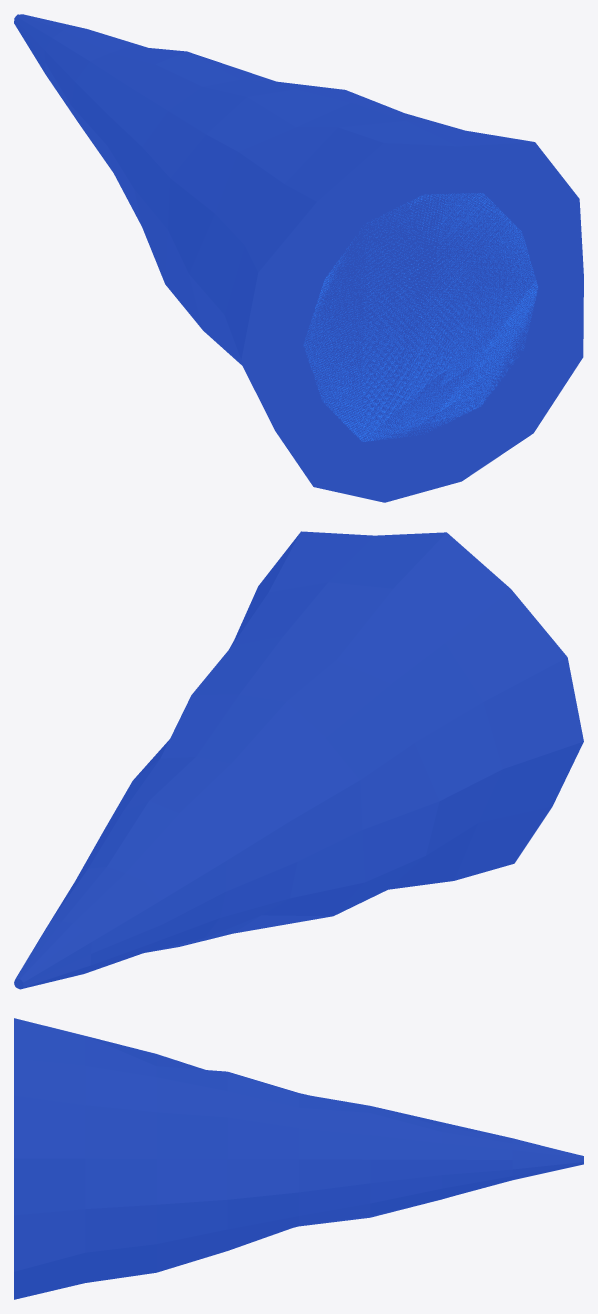
Rendered from afterburner_glow.glb.
3 views of the same model, one above another, from view 1: azimuth 30°, elevation 25°; view 2: azimuth 150°, elevation 25°; view 3: azimuth 270°, elevation 25° (orthographic). The views are drawn at different scales.
Visible parts, largest first — view 1: afterburner_glow; view 2: afterburner_glow; view 3: afterburner_glow.
Part boxes in pixels (left/top/right/bottom): afterburner_glow: left=14, top=14, right=583, bottom=502; afterburner_glow: left=14, top=531, right=583, bottom=989; afterburner_glow: left=14, top=1018, right=583, bottom=1299.
Size of the model in its own units: 1 by 1.01 by 2.05.
